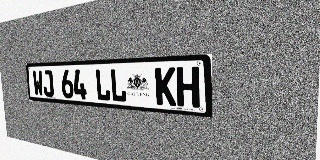4: (72, 69, 87, 100)
6: (61, 70, 74, 99)
H: (176, 67, 200, 108)
J: (42, 70, 54, 97)
K: (155, 67, 176, 106)
L: (110, 68, 127, 102), (95, 69, 111, 101)
W: (32, 70, 44, 96)
